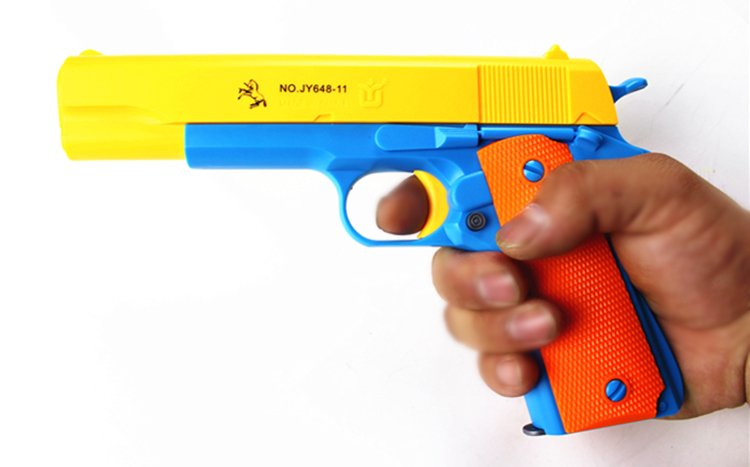Arma Falsa: (53, 40, 691, 438)
